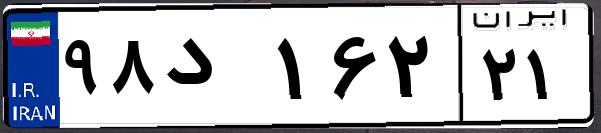1: (270, 28, 330, 110), (525, 38, 570, 115)
2: (385, 28, 445, 110), (475, 38, 525, 113)
6: (330, 28, 385, 110)
8: (110, 28, 158, 98)
9: (57, 26, 110, 100)
د: (158, 20, 270, 120)
